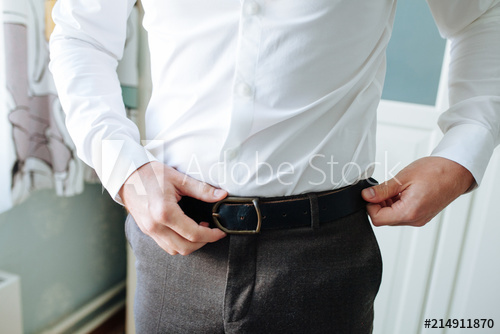F_belt: (171, 188, 375, 230)
F_shirt: (44, 1, 498, 210)
